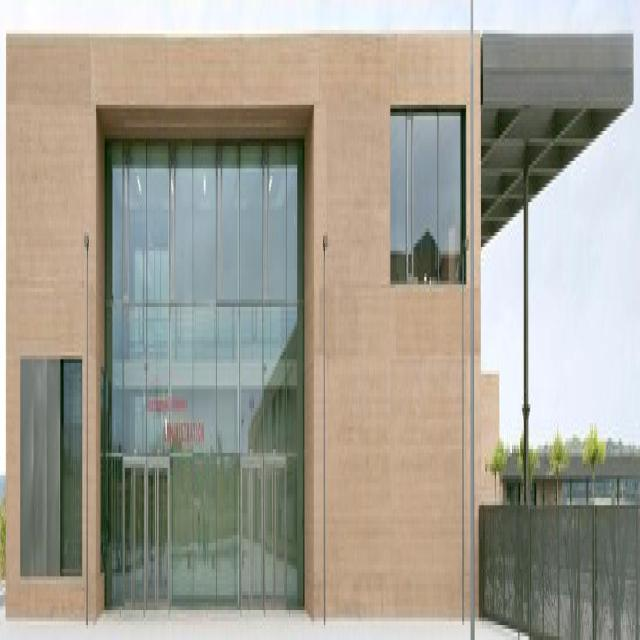door: (123, 452, 170, 608), (240, 452, 286, 611)
wall: (5, 28, 633, 624)
windows: (104, 136, 305, 608), (389, 108, 466, 280), (60, 366, 82, 582)
